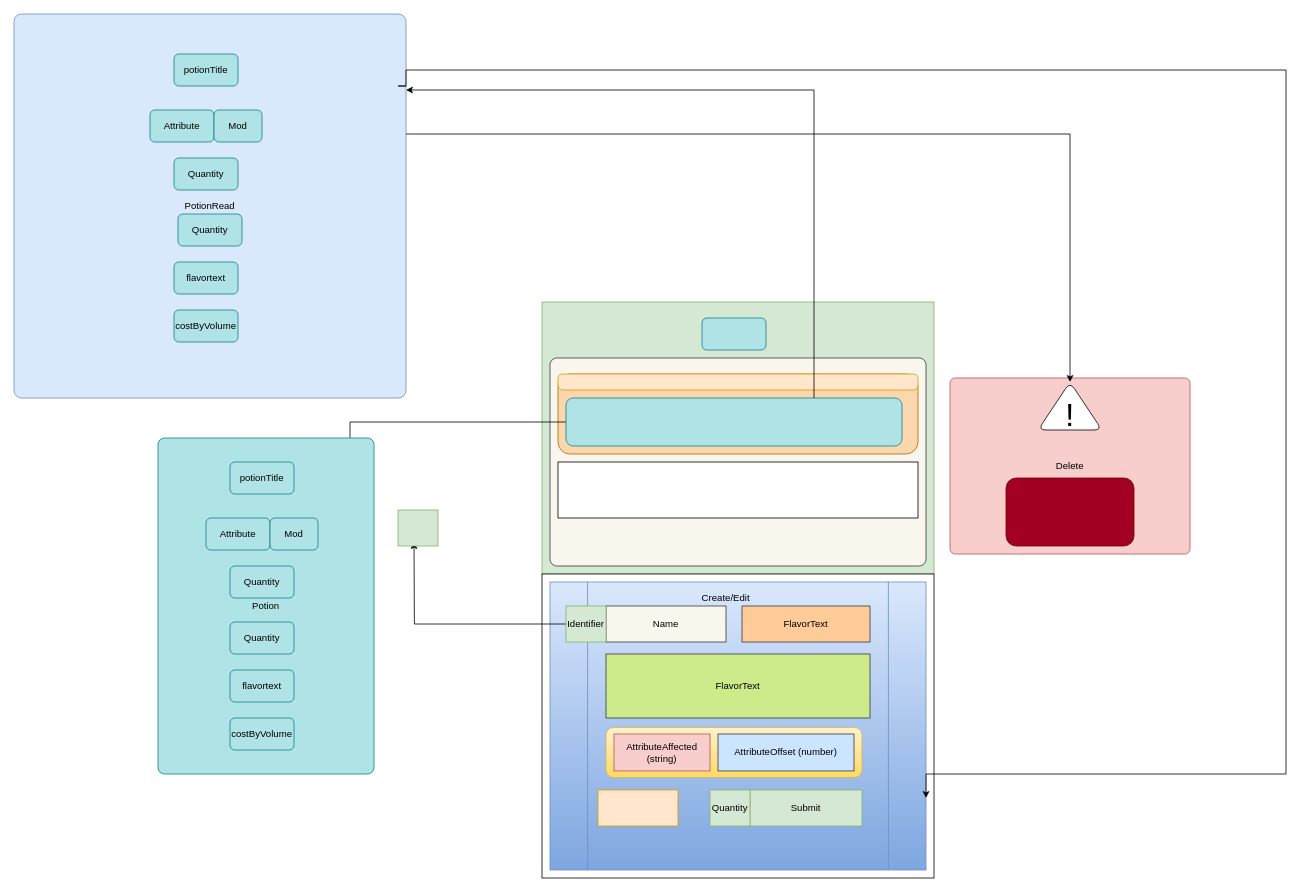
The diagram is 1306 pixels wide and 892 high, and some of its shapes have lost their labels. The shapes that lost their labels are listed below. From the top down, each one's centre as x and y in pixels, then its label:
(x=733, y=333): Potion Shop
(x=737, y=381): Label
(x=733, y=421): PotionBasics
(x=417, y=527): "No." + potionId
(x=1069, y=511): DeleteConfirm
(x=637, y=807): Return
